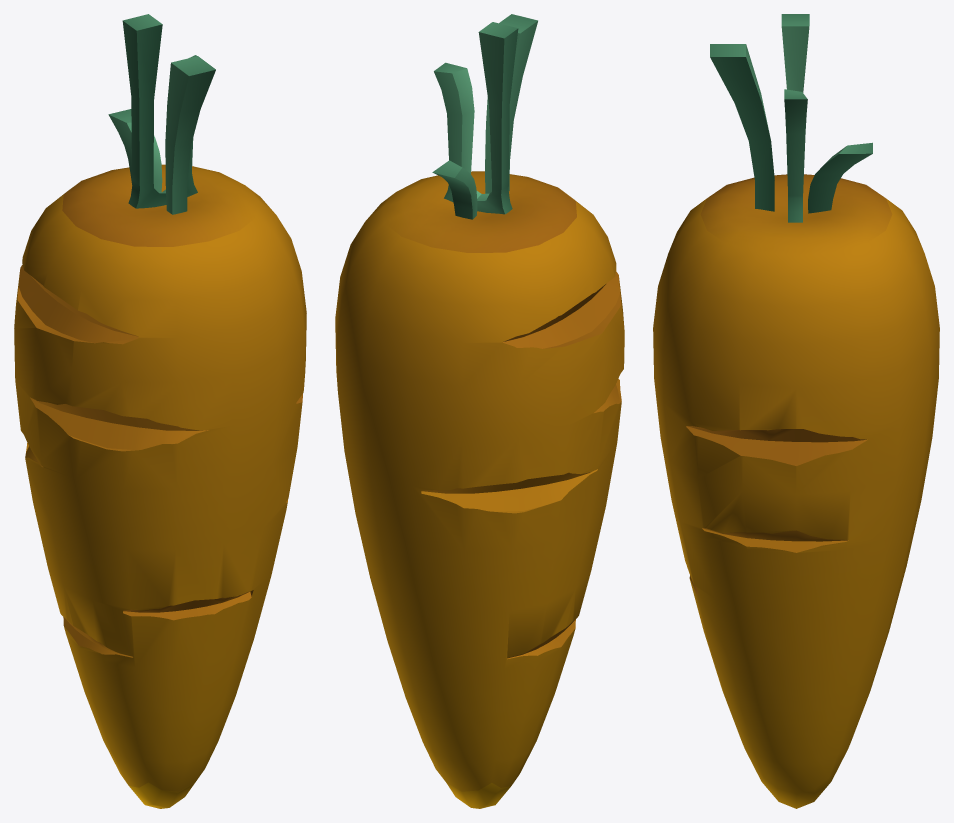
File: 3D_Items_Carrott.fbx
3 views of the same model, side by side, from view 1: azimuth 30°, elevation 25°; view 2: azimuth 150°, elevation 25°; view 3: azimuth 270°, elevation 25° (orthographic).
Parts seen in each view (by area): view 1: 3D_Items_Carrott; view 2: 3D_Items_Carrott; view 3: 3D_Items_Carrott.
Part boxes in pixels (<box>): 3D_Items_Carrott: <box>14,14,306,808</box>; 3D_Items_Carrott: <box>335,14,624,808</box>; 3D_Items_Carrott: <box>653,14,939,808</box>.
Size of the model in its own units: 50 by 150 by 50.
